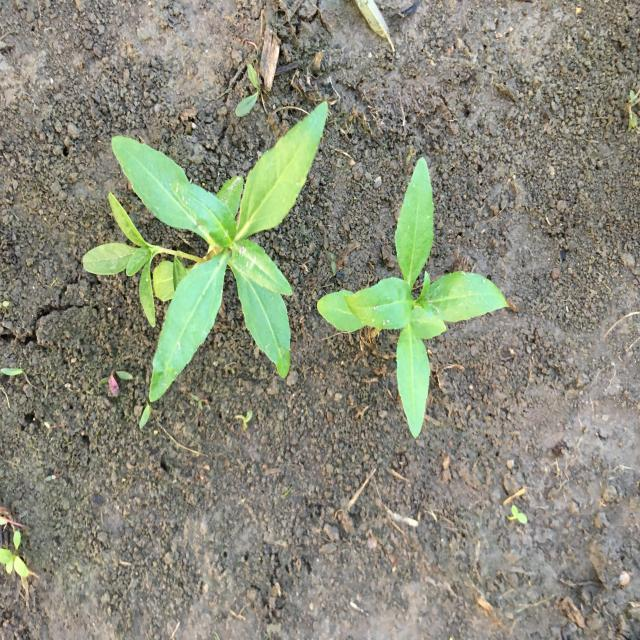Eclipta: (110, 99, 330, 404), (316, 156, 510, 442)
Waterhemp: (80, 191, 166, 330)
